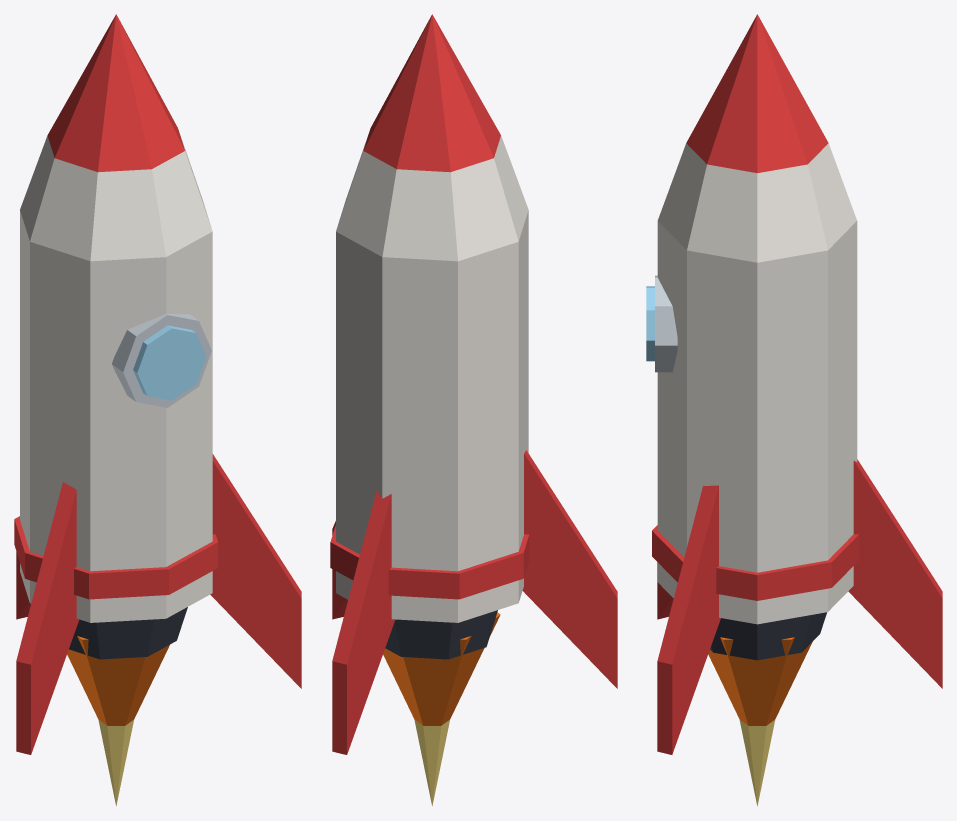
Rendered from Rocket.fbx.
3 views of the same model, side by side, from view 1: azimuth 30°, elevation 25°; view 2: azimuth 150°, elevation 25°; view 3: azimuth 270°, elevation 25° (orthographic).
Visible parts, largest first — view 1: Rocket; view 2: Rocket; view 3: Rocket.
Part boxes in pixels (x1,y1,x2,y2): Rocket: [14, 14, 301, 805]; Rocket: [330, 14, 617, 805]; Rocket: [646, 14, 942, 806].
Size of the model in its own units: 3.47 by 9.21 by 3.12.
Materials: 1 (1 with a texture image).
